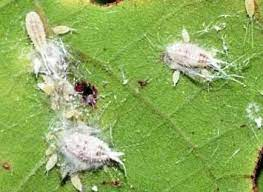mealybug: (23, 13, 88, 125), (155, 21, 234, 93), (49, 113, 119, 184)
